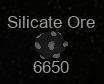Silicate: (6, 13, 97, 76)
